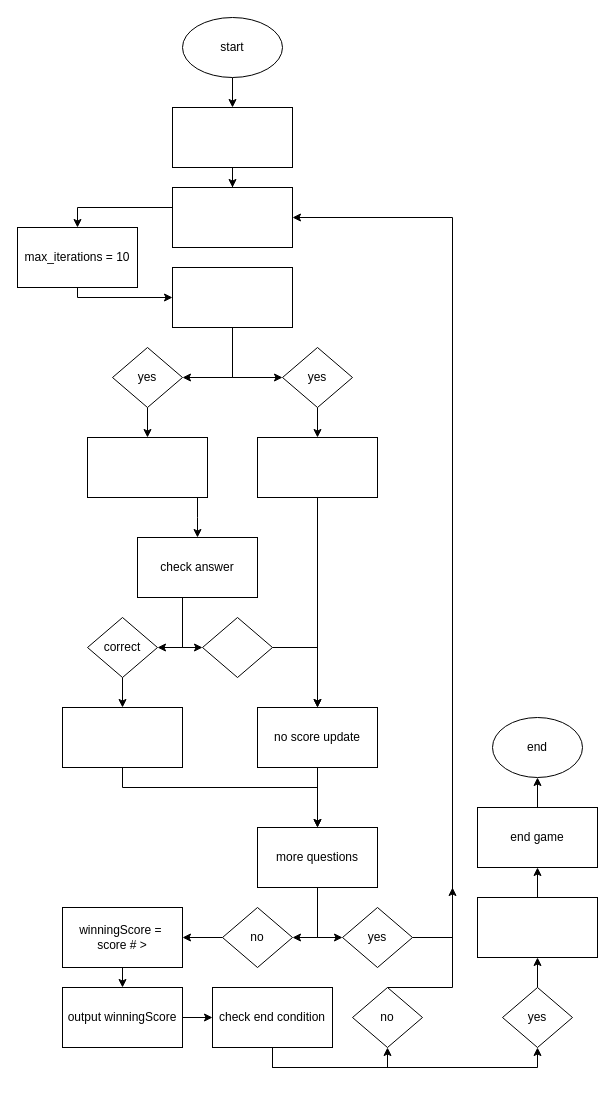
This 615x1093 diagram has some shape labels left out. Here are the shapes that lost their labels. From the top down, the centre of each, then its label:
[232,137]: initialize game
[232,217]: present question
[232,297]: time check
[147,467]: receive answer
[317,467]: wait
[237,647]: incorrect
[122,737]: update score
[537,927]: output "Game Over"
